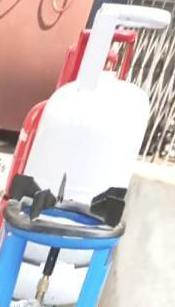cylinder: (0, 1, 175, 307)
